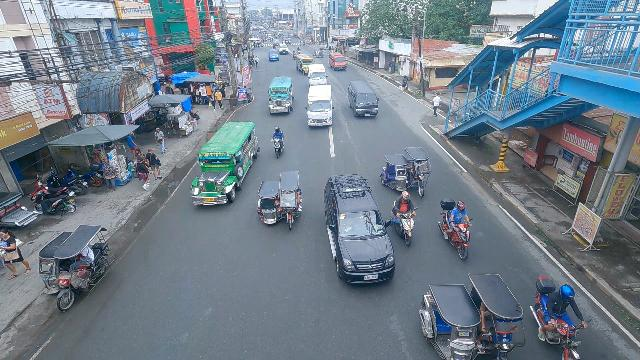car: (316, 172, 398, 286), (268, 49, 279, 61), (278, 44, 289, 55)
jeepney: (189, 120, 260, 208), (266, 76, 294, 116), (294, 53, 314, 74)
motorcycle: (529, 277, 592, 360), (441, 198, 473, 258), (395, 194, 425, 247), (270, 128, 286, 158)
van: (347, 80, 379, 119), (305, 85, 334, 128), (307, 64, 329, 86), (329, 52, 347, 72)
